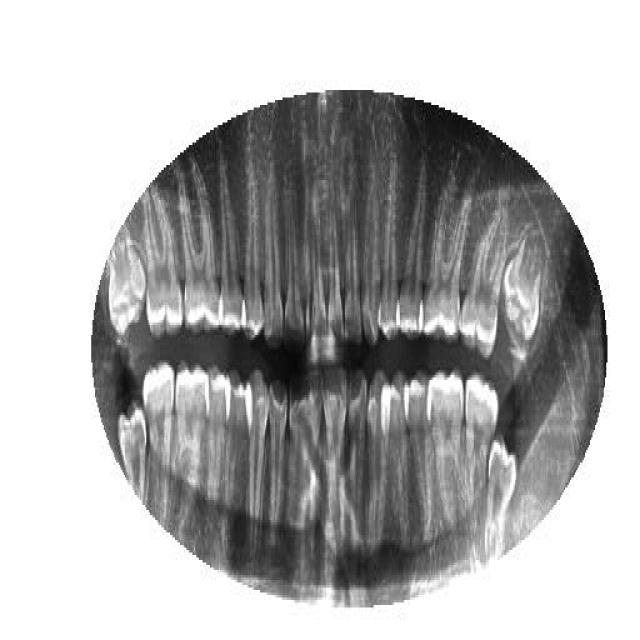Impacted Tooth: (498, 235, 544, 350), (105, 228, 147, 338), (483, 432, 518, 562)
